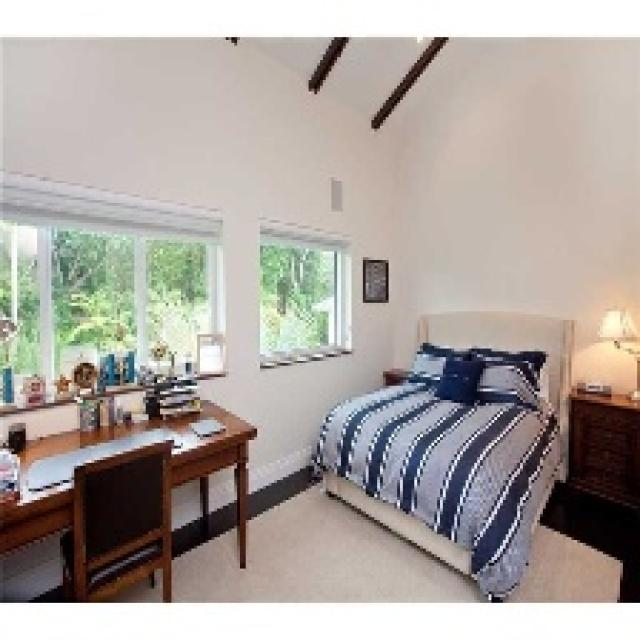Bed: (312, 309, 574, 600)
